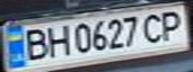0: (72, 20, 93, 54)
2: (106, 16, 127, 51)
6: (90, 17, 112, 52)
7: (121, 12, 145, 47)
B: (18, 26, 51, 62)
C: (139, 10, 169, 44)
H: (42, 24, 72, 57)
P: (157, 8, 190, 42)
